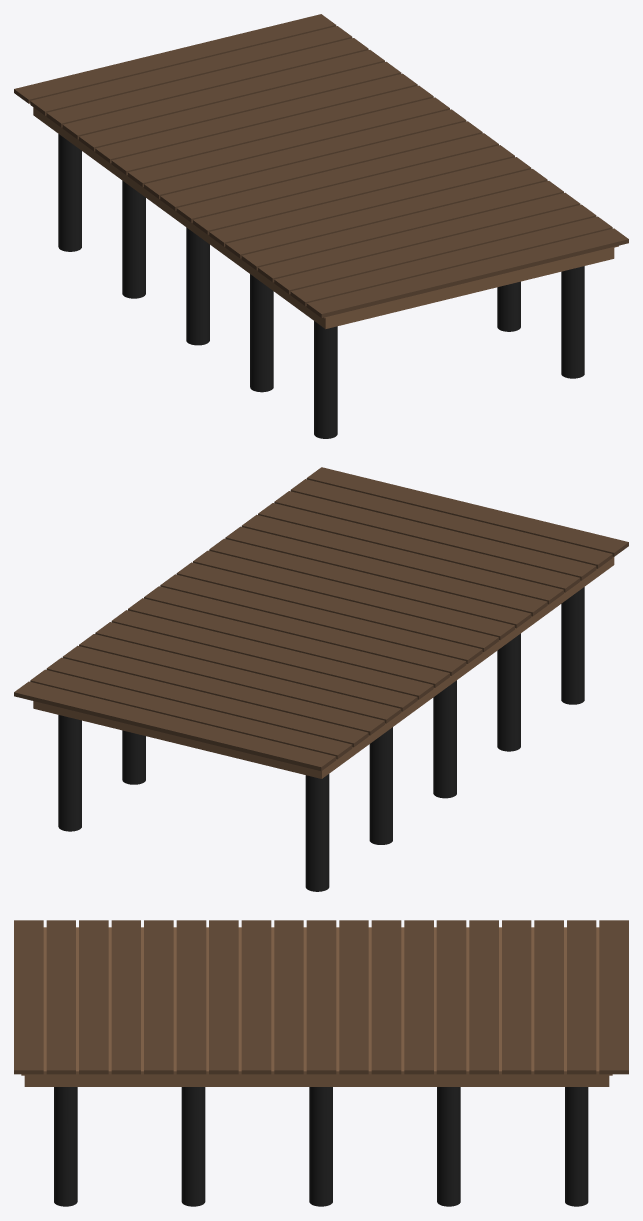
File: EnvironmentArt_Ponton.fbx
3 renders of one model, top to bottom at view 1: azimuth 30°, elevation 25°; view 2: azimuth 150°, elevation 25°; view 3: azimuth 270°, elevation 25°, orthographic.
Parts seen in each view (by area): view 1: MERGED_DOCK; view 2: MERGED_DOCK; view 3: MERGED_DOCK.
Part boxes in pixels (x1=…): MERGED_DOCK: x1=14, y1=14, x2=628, y2=438; MERGED_DOCK: x1=14, y1=467, x2=628, y2=891; MERGED_DOCK: x1=14, y1=920, x2=628, y2=1206.
Bounding box in the file's own units: 480 × 218 × 832.
